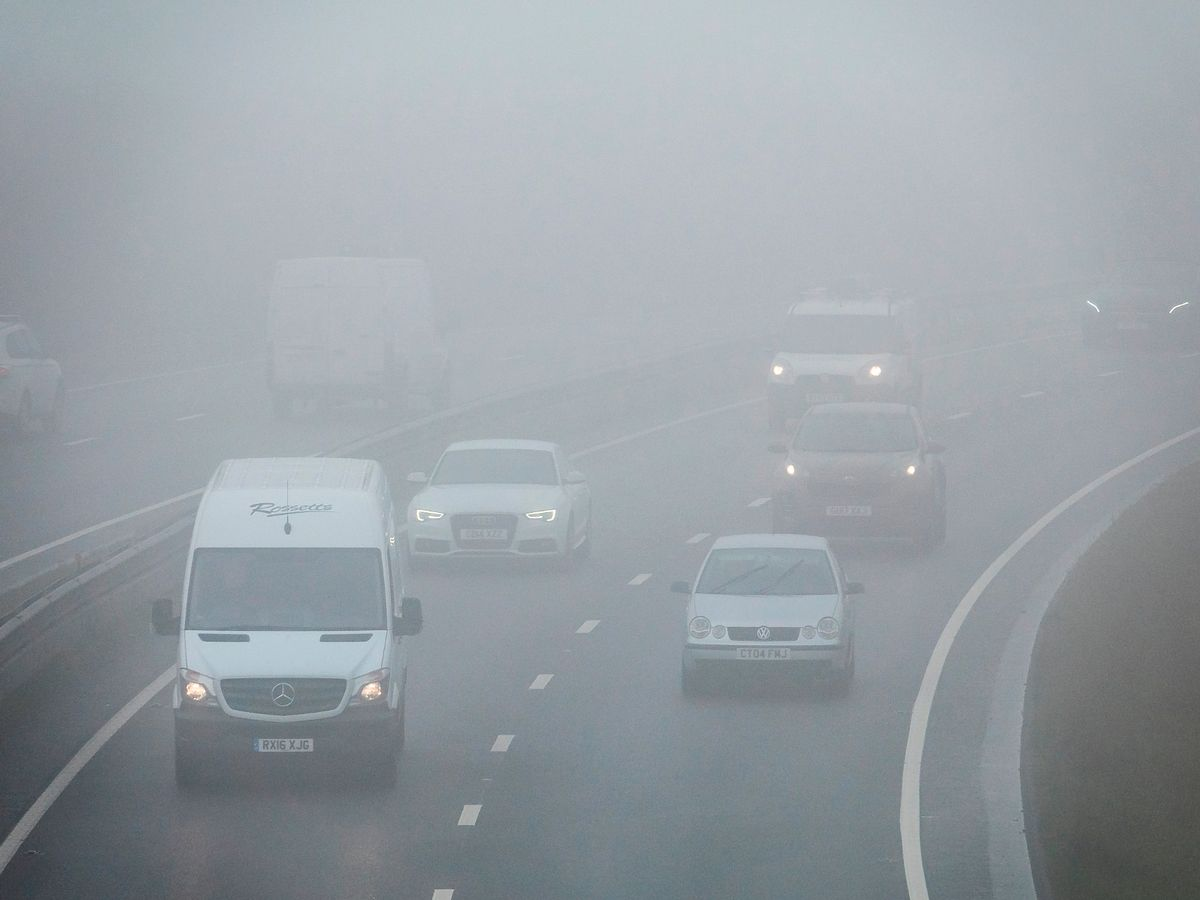bus: (176, 455, 412, 788)
car: (266, 253, 451, 417), (673, 532, 854, 699), (762, 405, 947, 547), (404, 436, 593, 570), (766, 277, 928, 425), (1085, 247, 1199, 351), (0, 313, 63, 427)
